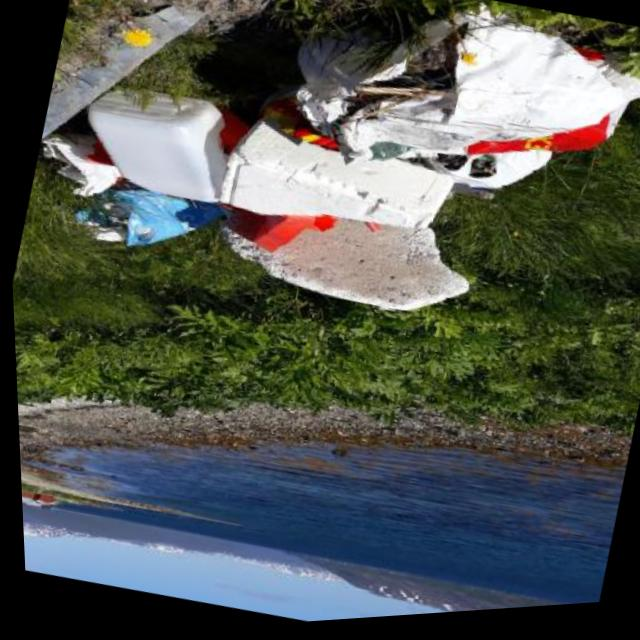foam: (135, 172, 295, 426)
plastic: (102, 392, 244, 569), (208, 405, 299, 539)
